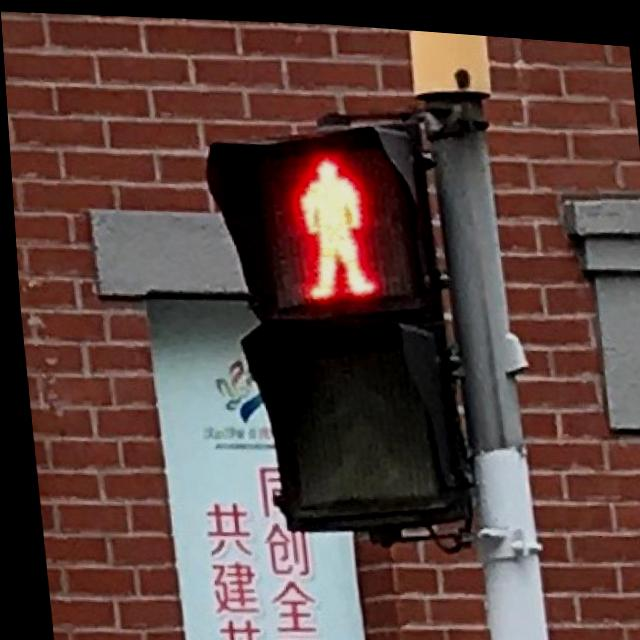red_light: (248, 131, 409, 309)
